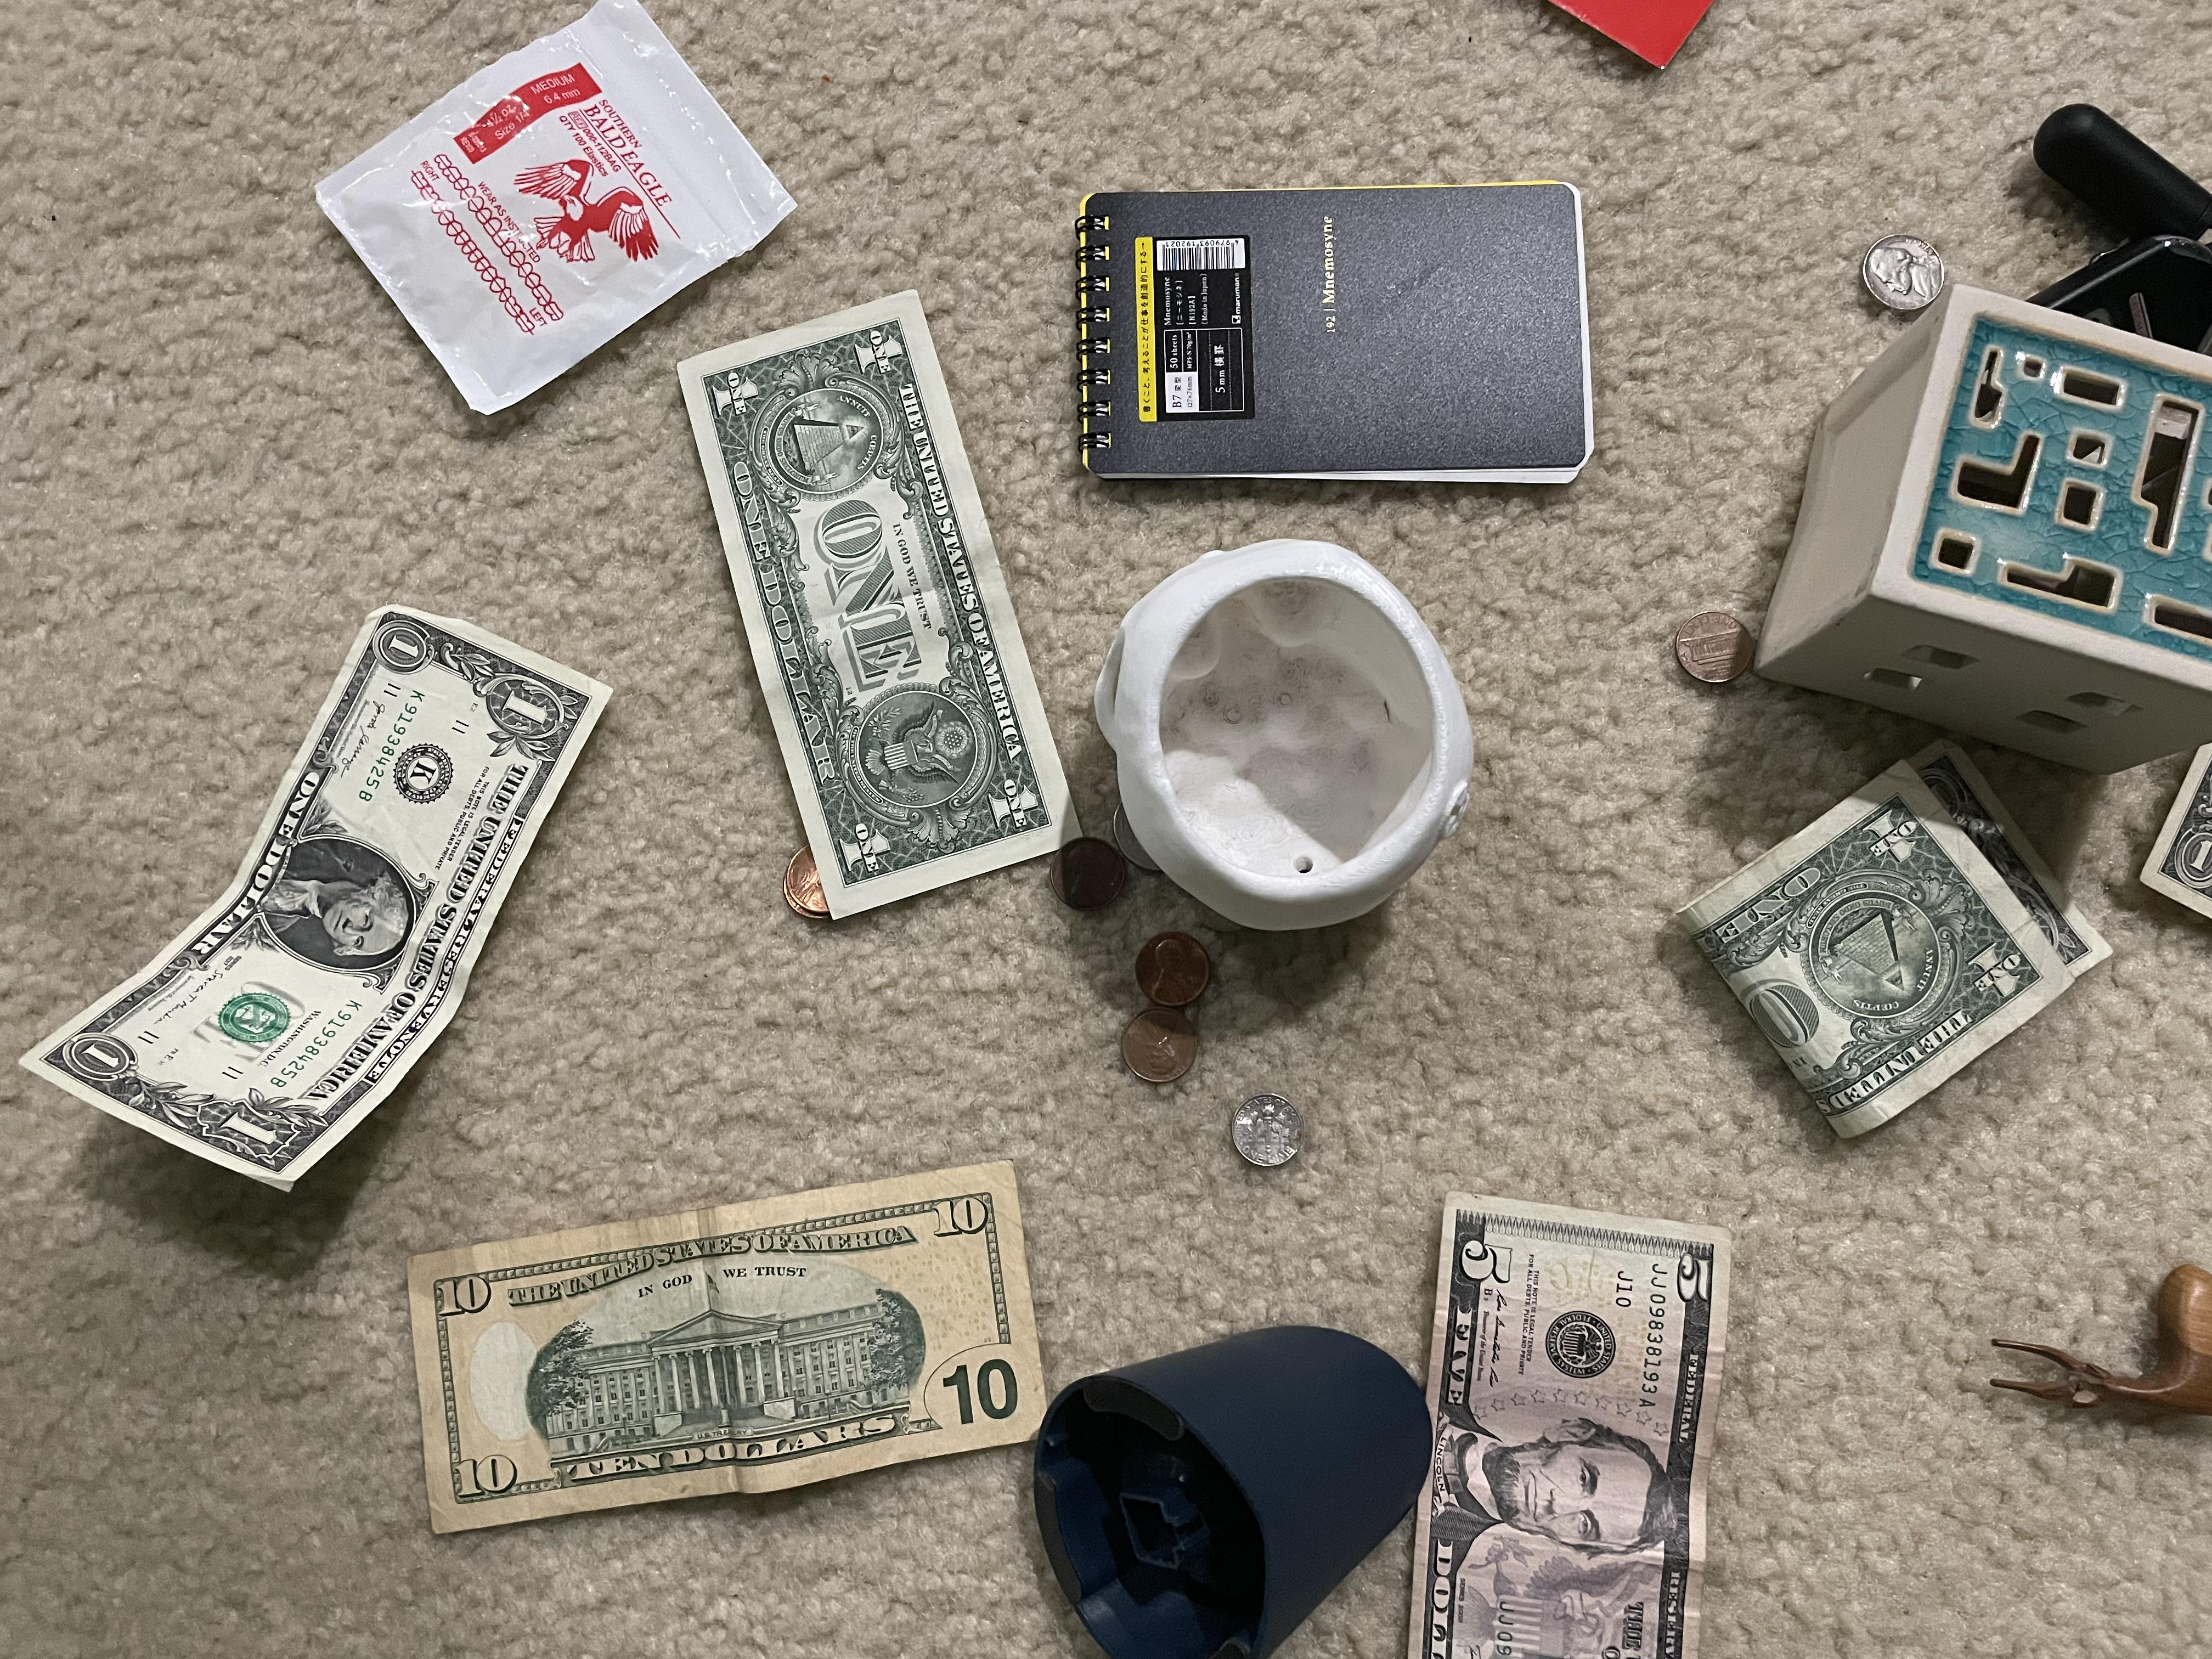Dime: (1223, 1084, 1308, 1176)
FiveBill: (1413, 1180, 1740, 1652)
Nickel: (1850, 230, 1951, 319)
OneBill: (19, 619, 613, 1202), (664, 295, 1080, 918), (1676, 732, 2134, 1157)
Penny: (1648, 603, 1754, 688), (1132, 929, 1235, 1016), (1109, 1007, 1216, 1091), (1049, 833, 1132, 913)
TenBill: (387, 1159, 1059, 1546)
